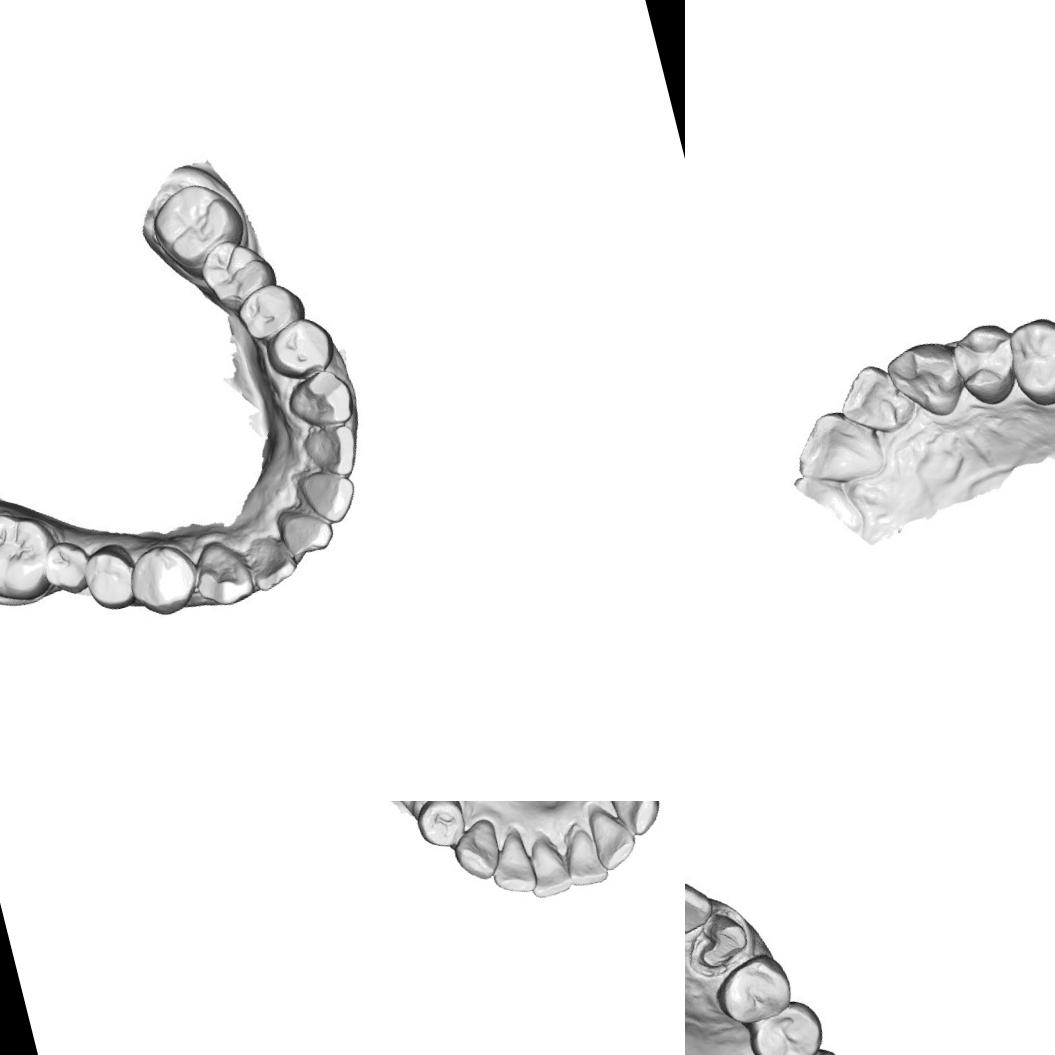canine: (881, 330, 976, 428), (286, 367, 360, 439), (445, 814, 507, 886), (188, 536, 253, 604), (603, 801, 667, 840)
crown: (685, 907, 753, 980)
incisor: (786, 400, 890, 490), (828, 356, 916, 442), (292, 458, 366, 530), (272, 498, 344, 568), (481, 827, 540, 900), (584, 801, 642, 874), (300, 415, 364, 481), (518, 831, 576, 902), (243, 528, 301, 593), (558, 821, 610, 890), (685, 864, 721, 952)
molar: (150, 177, 244, 268), (0, 501, 62, 605), (196, 232, 274, 311), (748, 992, 834, 1055), (32, 534, 97, 602)
premolar: (712, 949, 797, 1032), (950, 316, 1026, 407), (122, 542, 196, 615), (1003, 310, 1055, 412), (75, 540, 144, 616), (267, 307, 336, 380), (236, 276, 296, 344), (408, 801, 472, 853)
